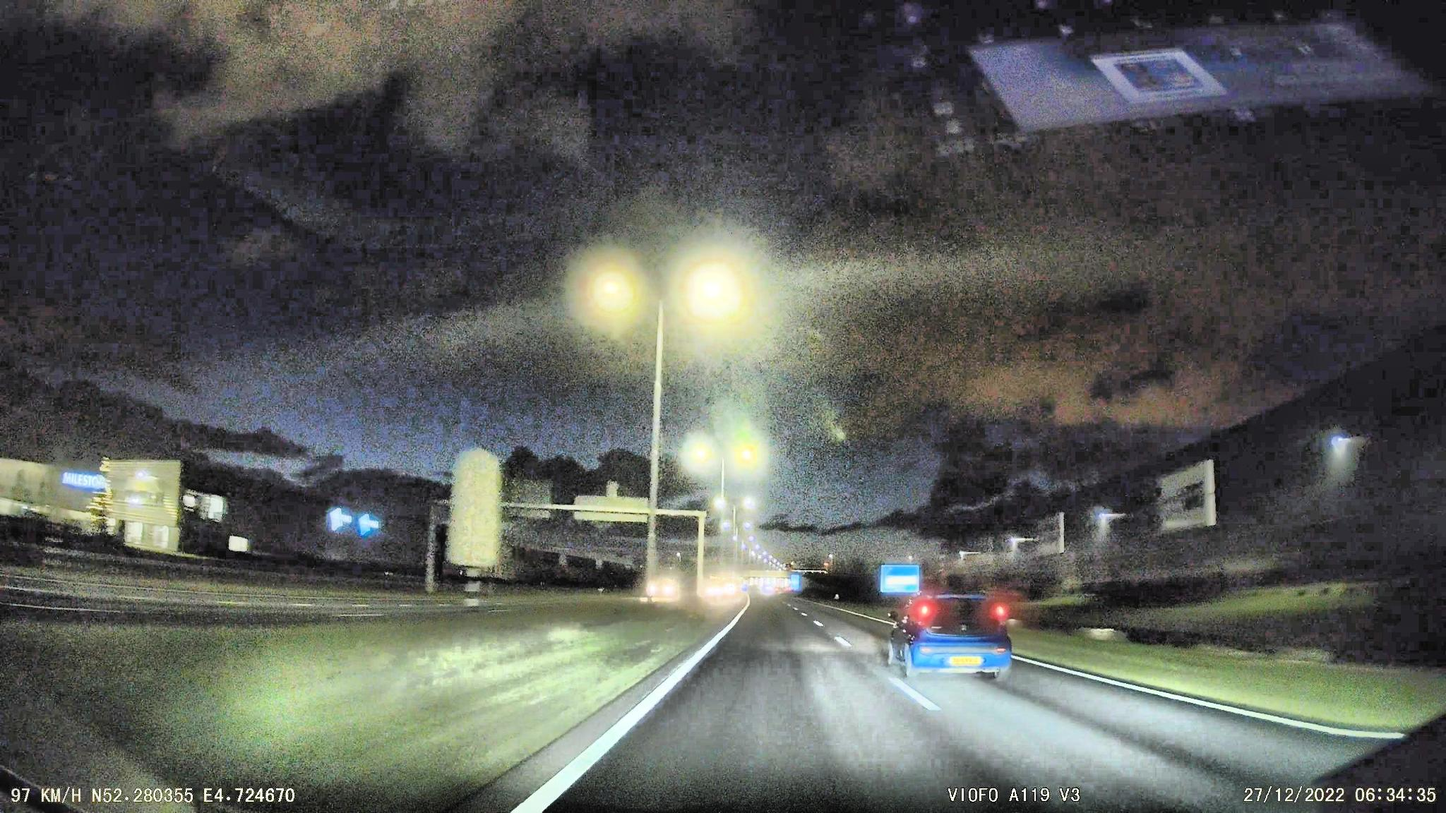Roads: (543, 607, 1395, 813)
